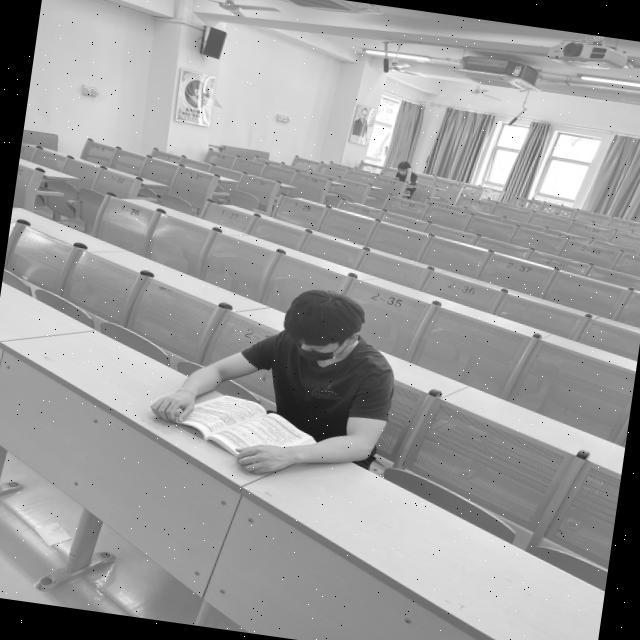study: (145, 268, 408, 489), (393, 156, 420, 185)
